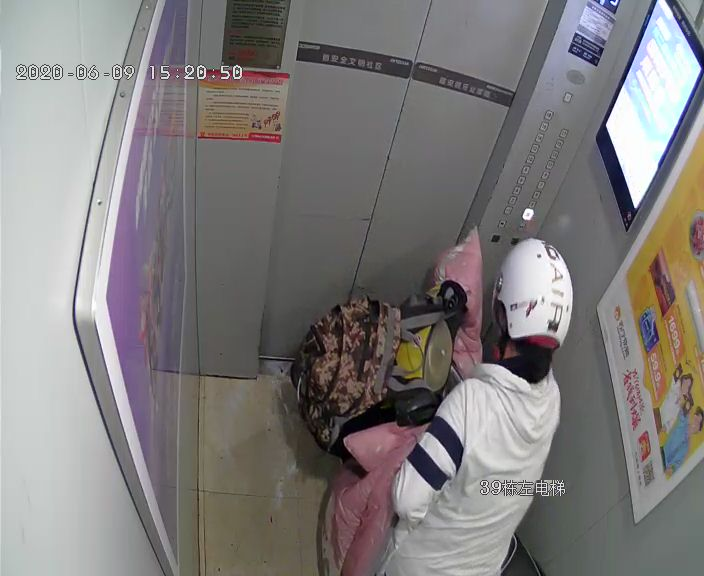Electric-bicycle: (298, 230, 486, 422)
